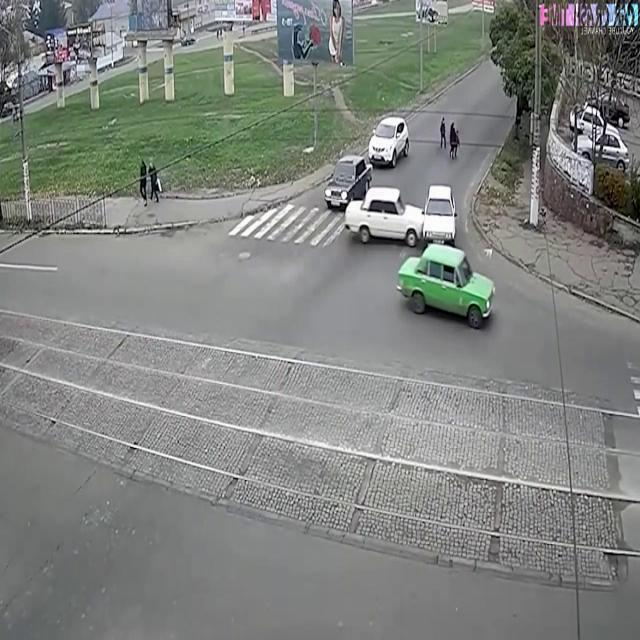accident: (344, 180, 456, 248)
non-accident: (395, 184, 495, 330), (325, 153, 421, 245), (324, 116, 410, 210), (569, 89, 631, 171)
